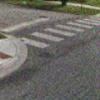crosswalks: (20, 14, 100, 53)
